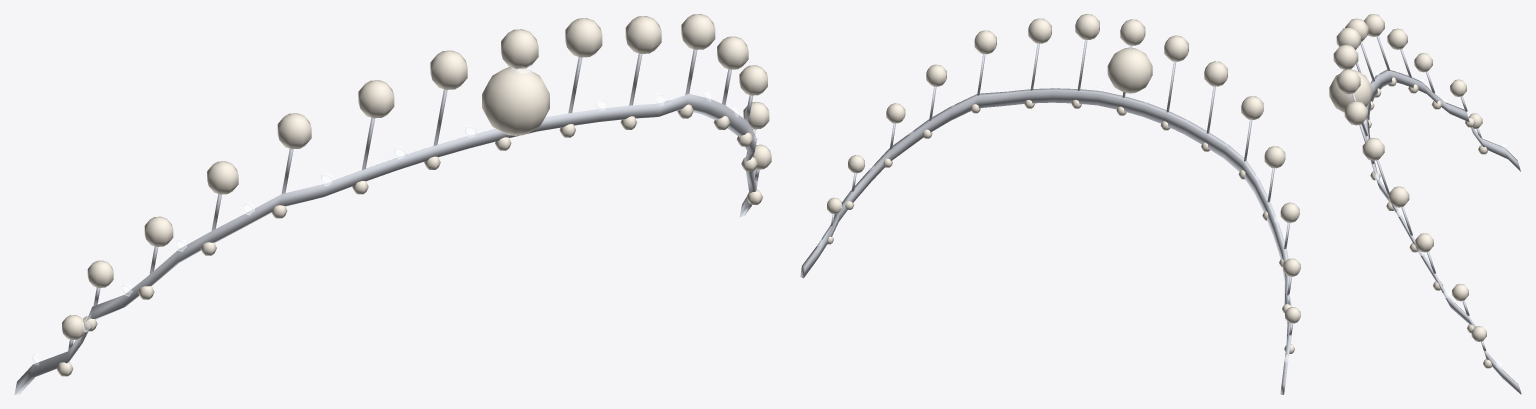
The model's file is pearl_tiara.glb.
3 views of the same model, side by side, from view 1: azimuth 30°, elevation 25°; view 2: azimuth 150°, elevation 25°; view 3: azimuth 270°, elevation 25° (orthographic). The views are drawn at different scales.
Visible parts, largest first — view 1: pearl_tiara; view 2: pearl_tiara; view 3: pearl_tiara.
Boxes of the visible parts, box(x1,y1,x2,y2) form: pearl_tiara: box(14, 14, 771, 394); pearl_tiara: box(800, 14, 1300, 394); pearl_tiara: box(1329, 14, 1521, 394).
Size of the model in its own units: 0.2421 by 0.1192 by 0.0873.
